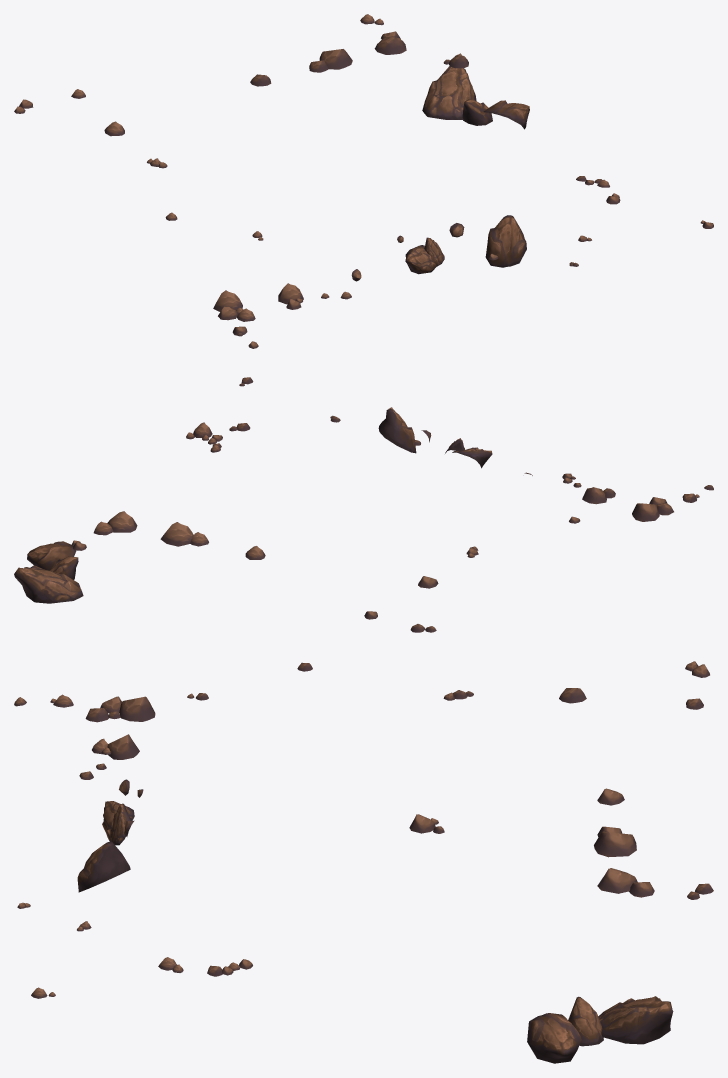
Rendered from pyramid_rocks_glb.glb.
The picture shows the model from 3 angles, top to bottom: view 1: azimuth 30°, elevation 25°; view 2: azimuth 150°, elevation 25°; view 3: azimuth 270°, elevation 25°; orthographic projection. The views are drawn at different scales.
Visible parts, largest first — view 1: rocks_geo; view 2: rocks_geo; view 3: rocks_geo.
Part boxes in pixels (bbox=[...]): rocks_geo: bbox=[14, 14, 713, 348]; rocks_geo: bbox=[14, 377, 713, 632]; rocks_geo: bbox=[14, 661, 713, 1063].
Size of what is drawn, in the model's own units: 64.28 by 17.6 by 61.27.
Materials: 1 (1 with a texture image).
